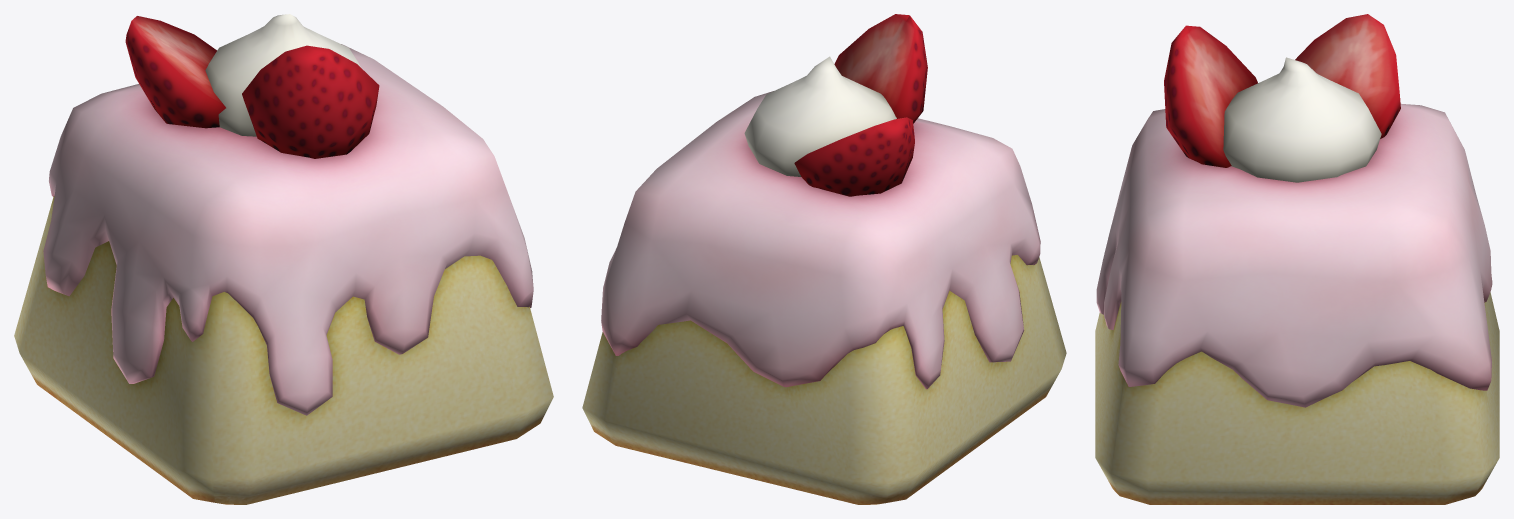
File: strawberrypcake.fbx
3 views of the same model, side by side, from view 1: azimuth 30°, elevation 25°; view 2: azimuth 150°, elevation 25°; view 3: azimuth 270°, elevation 25° (orthographic). The views are drawn at different scales.
Parts seen in each view (by area): view 1: Cube; view 2: Cube; view 3: Cube.
Boxes of the visible parts, left/top/right/bottom form: Cube: left=14, top=14, right=553, bottom=504; Cube: left=582, top=14, right=1066, bottom=504; Cube: left=1095, top=14, right=1499, bottom=504.
Size of the model in its own units: 519 by 562 by 518.
Materials: 1 (1 with a texture image).
